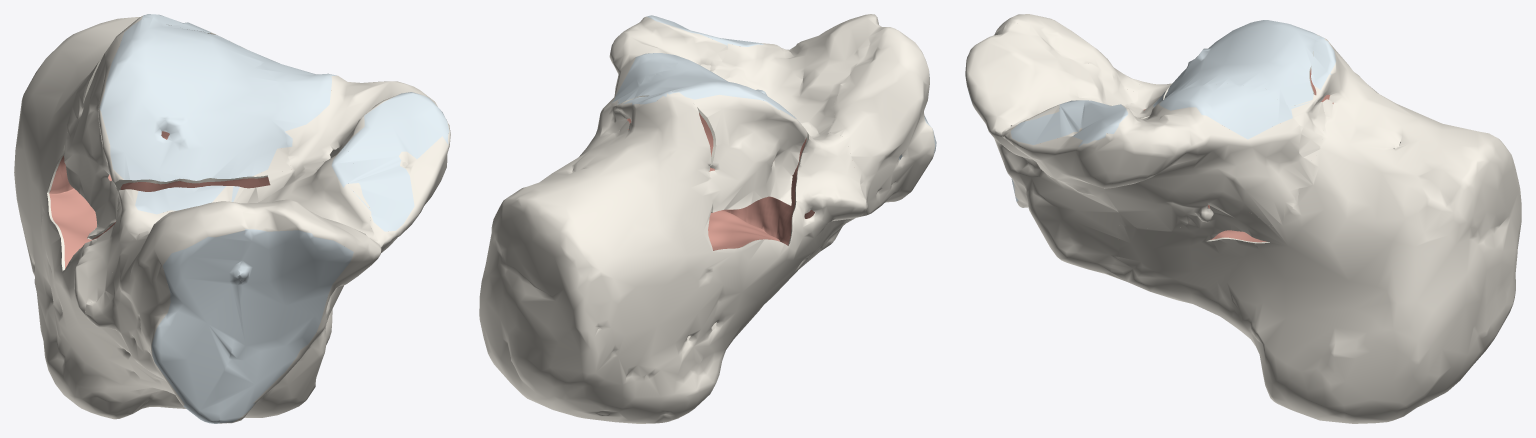
File: G-2B-AC_elderly.glb
3 views of the same model, side by side, from view 1: azimuth 30°, elevation 25°; view 2: azimuth 150°, elevation 25°; view 3: azimuth 270°, elevation 25° (orthographic). The views are drawn at different scales.
Visible parts, largest first — view 1: calcaneus: tuberosity, calcaneus: depressed lateral joint fragment, calcaneus: central anterior process (zones B) fragment, calcaneus: anterolateral (zone A) fragment, calcaneus: sustentacular fragment; view 2: calcaneus: tuberosity, calcaneus: depressed lateral joint fragment, calcaneus: anterolateral (zone A) fragment, calcaneus: central anterior process (zones B) fragment, calcaneus: sustentacular fragment; view 3: calcaneus: tuberosity, calcaneus: sustentacular fragment, calcaneus: central anterior process (zones B) fragment, calcaneus: depressed lateral joint fragment, calcaneus: anterolateral (zone A) fragment.
Part boxes in pixels (box(x1,y1,x2,y2)): calcaneus: tuberosity: box(14, 14, 332, 419); calcaneus: depressed lateral joint fragment: box(63, 18, 290, 239); calcaneus: central anterior process (zones B) fragment: box(217, 149, 381, 423); calcaneus: anterolateral (zone A) fragment: box(85, 201, 245, 423); calcaneus: sustentacular fragment: box(249, 50, 450, 252); calcaneus: tuberosity: box(479, 91, 866, 423); calcaneus: depressed lateral joint fragment: box(590, 63, 807, 212); calcaneus: anterolateral (zone A) fragment: box(824, 27, 936, 245); calcaneus: central anterior process (zones B) fragment: box(715, 14, 885, 250); calcaneus: sustentacular fragment: box(592, 15, 789, 139); calcaneus: tuberosity: box(1106, 34, 1521, 423); calcaneus: sustentacular fragment: box(996, 83, 1314, 230); calcaneus: central anterior process (zones B) fragment: box(965, 23, 1137, 274); calcaneus: depressed lateral joint fragment: box(1147, 20, 1326, 206); calcaneus: anterolateral (zone A) fragment: box(995, 14, 1140, 126).
Size of the model in its own units: 0.0475 by 0.0513 by 0.0757.
